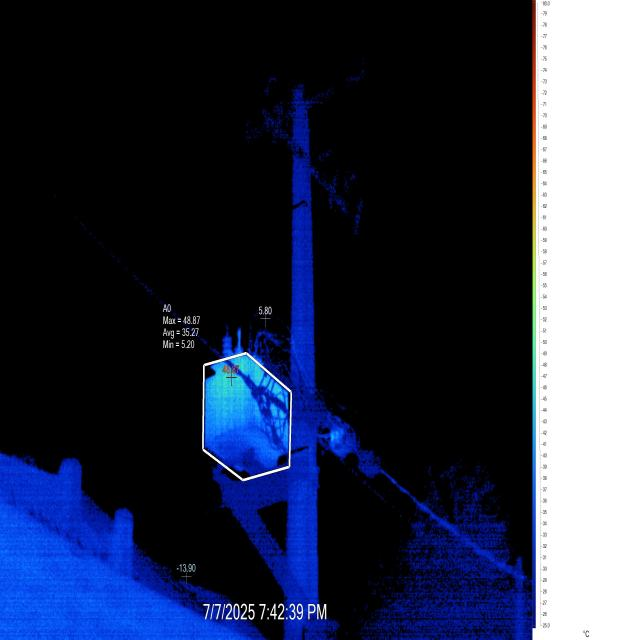Transformer: (192, 21, 385, 636)
